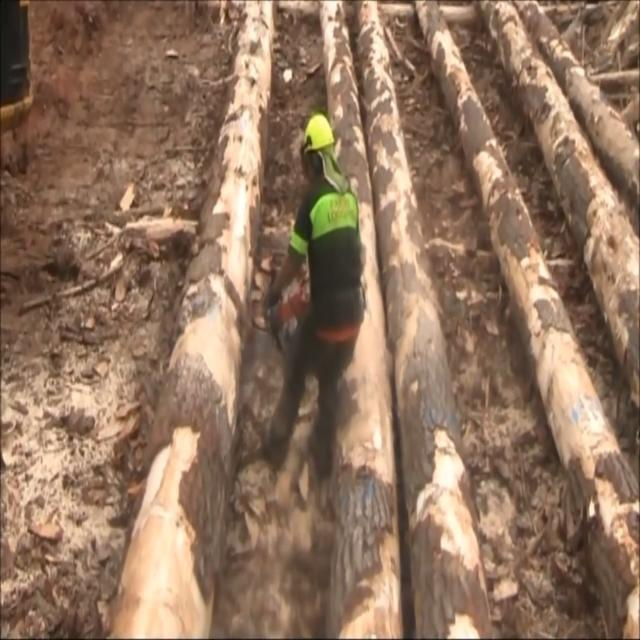Chainsaw: (243, 252, 310, 364)
